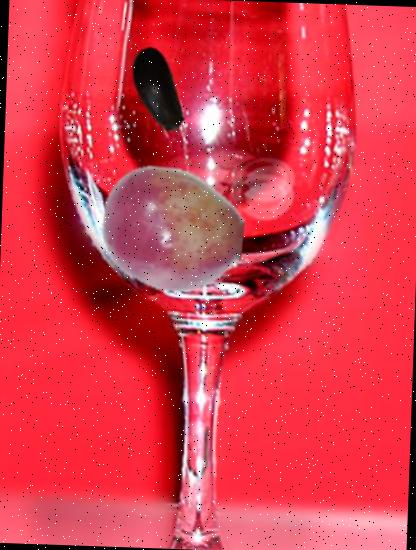Cherry: (97, 155, 246, 304)
Eggplant: (110, 44, 205, 138)
